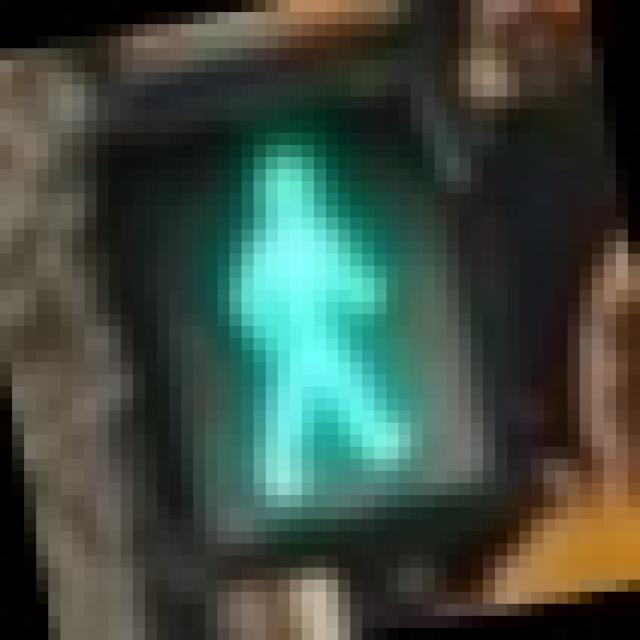geen-crossing: (120, 61, 483, 532)
